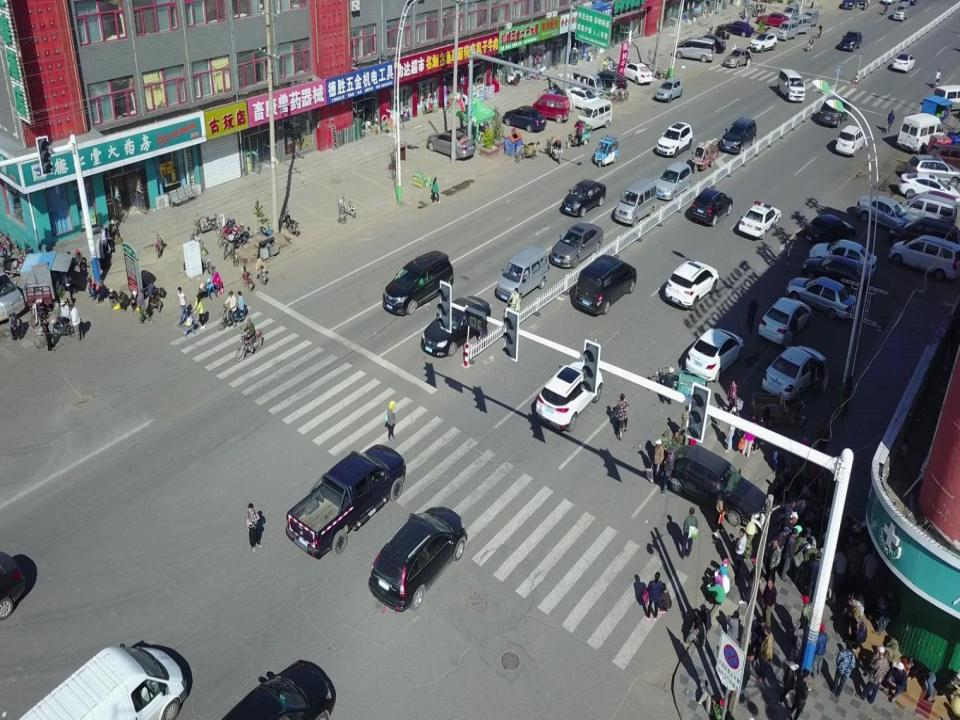car: (284, 445, 406, 559), (369, 507, 467, 611), (219, 660, 334, 720), (535, 360, 603, 432), (382, 252, 454, 316), (421, 294, 491, 358), (762, 345, 828, 401), (888, 234, 960, 280), (685, 328, 744, 383), (786, 277, 856, 319), (664, 260, 719, 312), (810, 239, 876, 279), (550, 221, 604, 268), (758, 298, 812, 344), (802, 256, 865, 295), (856, 195, 916, 231), (888, 218, 959, 246), (898, 172, 960, 202), (905, 154, 960, 186), (562, 179, 608, 217), (691, 187, 734, 227), (738, 201, 782, 240), (804, 214, 856, 243), (426, 131, 474, 161), (656, 162, 692, 201), (656, 122, 693, 158), (720, 117, 756, 153), (502, 105, 546, 134), (906, 190, 957, 211), (565, 86, 601, 111), (618, 62, 654, 85), (654, 76, 683, 103), (591, 70, 627, 90), (750, 31, 776, 53), (723, 48, 751, 68), (697, 35, 726, 53), (757, 12, 789, 28), (839, 29, 862, 51), (725, 21, 754, 38), (892, 52, 916, 72)
van: (14, 643, 189, 720), (574, 254, 638, 314), (496, 245, 549, 302), (614, 178, 658, 228), (900, 192, 960, 227), (896, 112, 945, 153), (577, 99, 613, 132), (532, 93, 570, 123), (673, 36, 715, 63), (818, 96, 851, 127), (836, 124, 866, 158), (776, 68, 806, 100), (570, 69, 604, 96), (928, 144, 960, 167), (932, 84, 960, 110), (776, 19, 798, 41), (791, 14, 811, 36), (893, 2, 910, 21), (803, 10, 819, 26), (783, 3, 799, 18)
